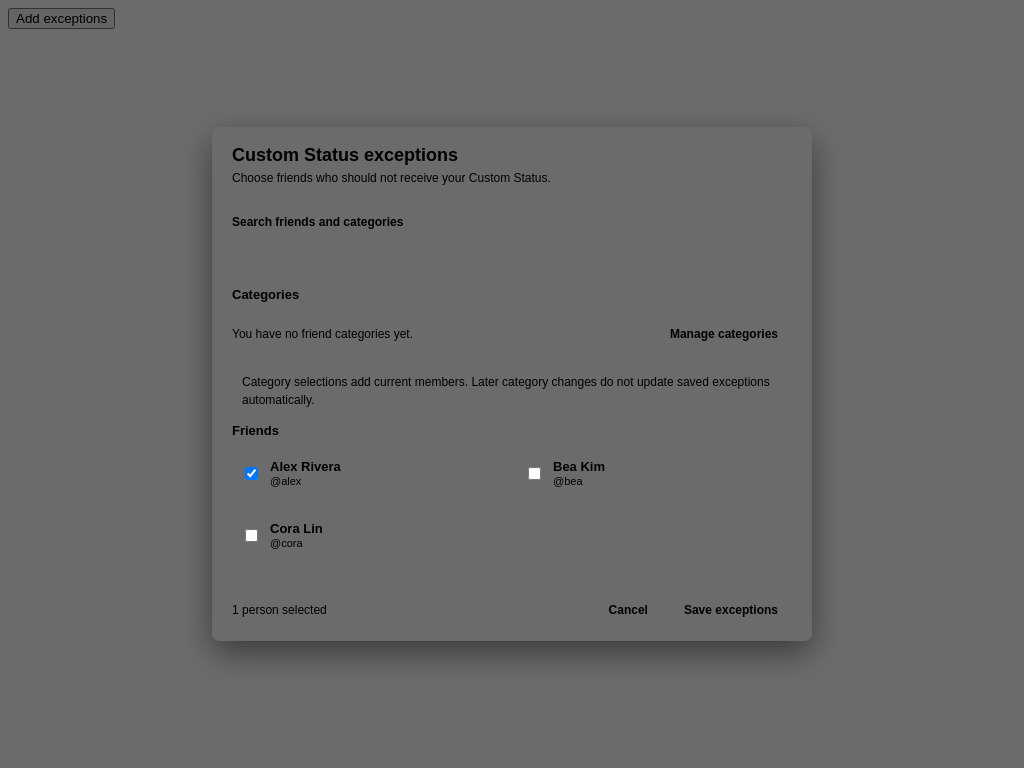
Scenario: PresenceExceptionModal › discards a draft locally when its authoritative base version changes
Click the checkbox labelled "Bea Kim @bea" at (534,473), box [528,466,541,480]
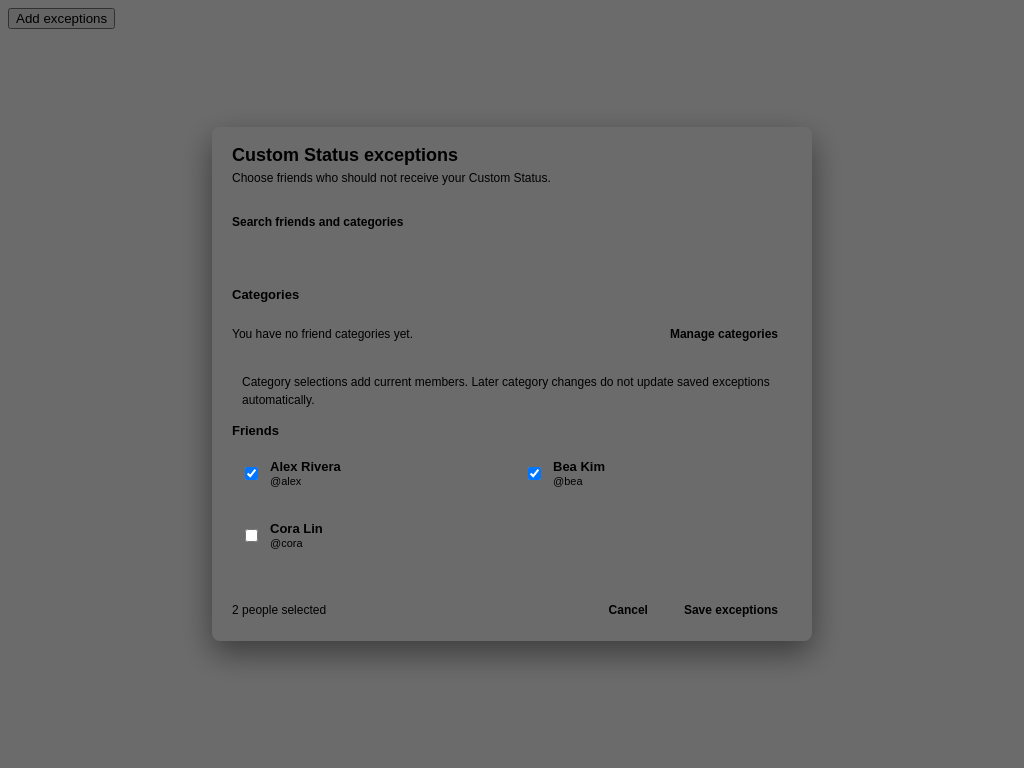
Click the button "Save exceptions" at (731,610), box [670,593,792,627]
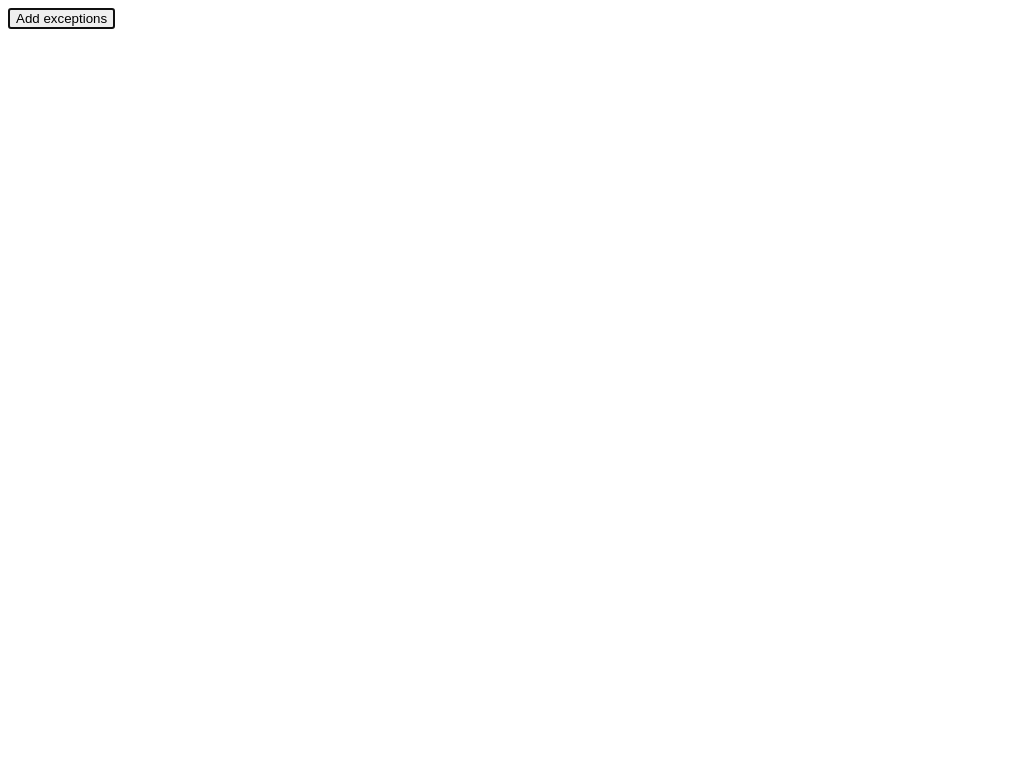
Check: the heading "Custom Status exceptions" is gone
